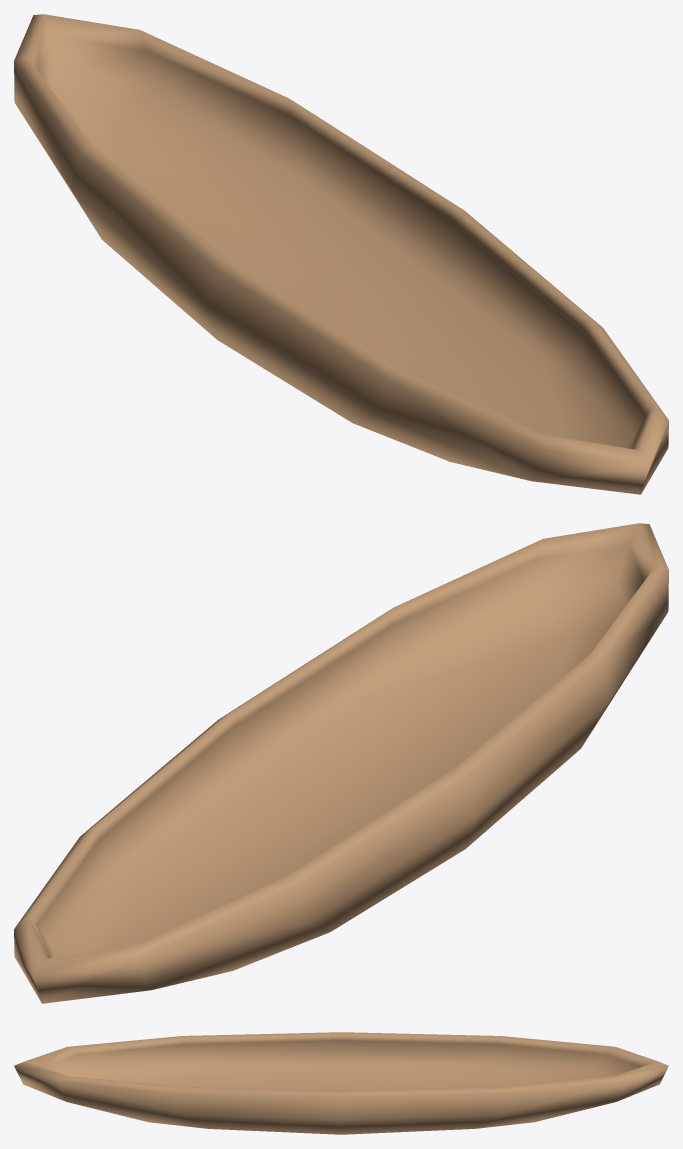
File: kayìk.fbx
The picture shows the model from 3 angles, top to bottom: view 1: azimuth 30°, elevation 25°; view 2: azimuth 150°, elevation 25°; view 3: azimuth 270°, elevation 25°; orthographic projection. The views are drawn at different scales.
Visible parts, largest first — view 1: Cube.002; view 2: Cube.002; view 3: Cube.002.
Part boxes in pixels (bbox=[...]): Cube.002: bbox=[14, 14, 668, 494]; Cube.002: bbox=[14, 523, 668, 1003]; Cube.002: bbox=[14, 1032, 668, 1134].
Size of the model in its own units: 495 by 167 by 1967.
